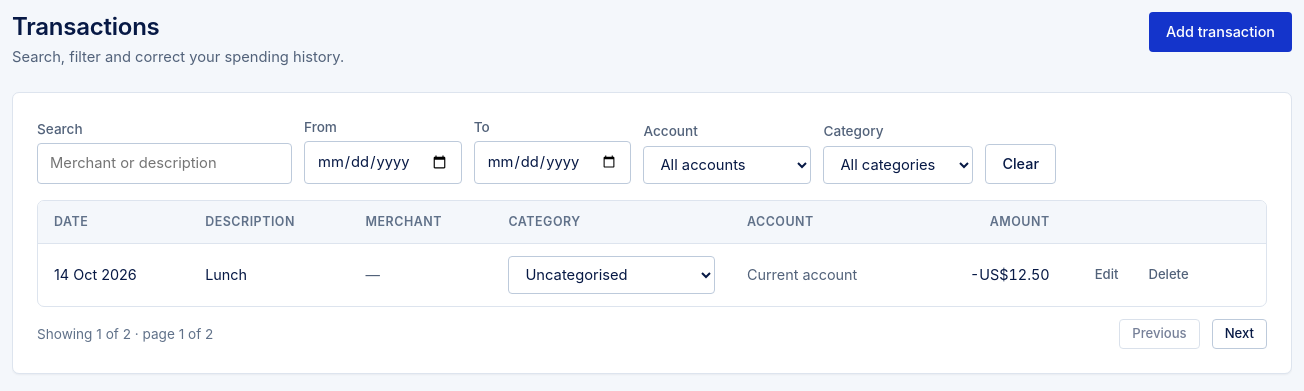
Test case: transaction controls › returns to the previous page after deleting the last transaction on a page
Click the button "Next": (1239, 334) [1212,319,1267,349]
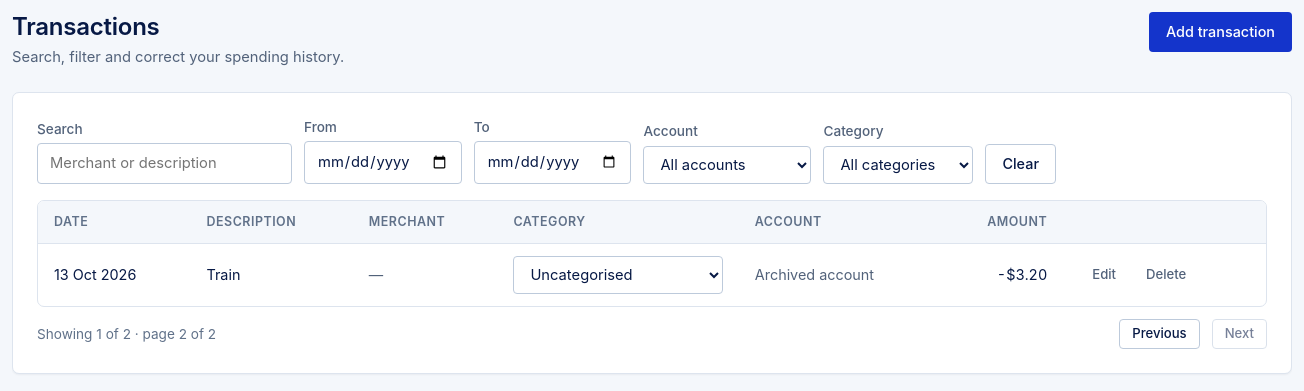
Click the button with aria-label "Delete Train": (1166, 275) [1133,260,1199,290]
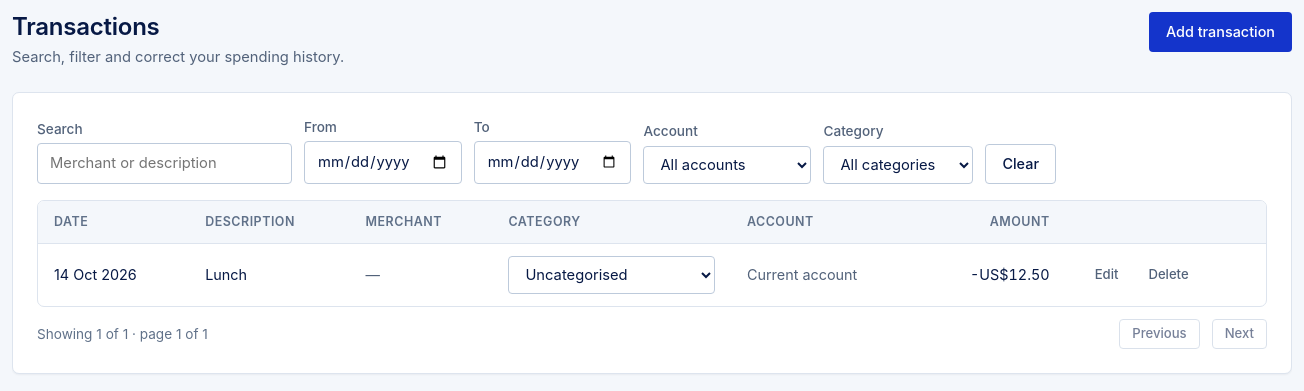
Expected: the button with aria-label "Edit Lunch" is shown, [1082,260,1132,290]
Expected: the button "Previous" is disabled, [1119,319,1200,349]
